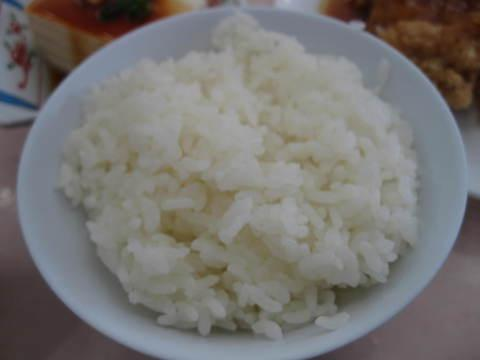rice: (60, 14, 418, 337)
